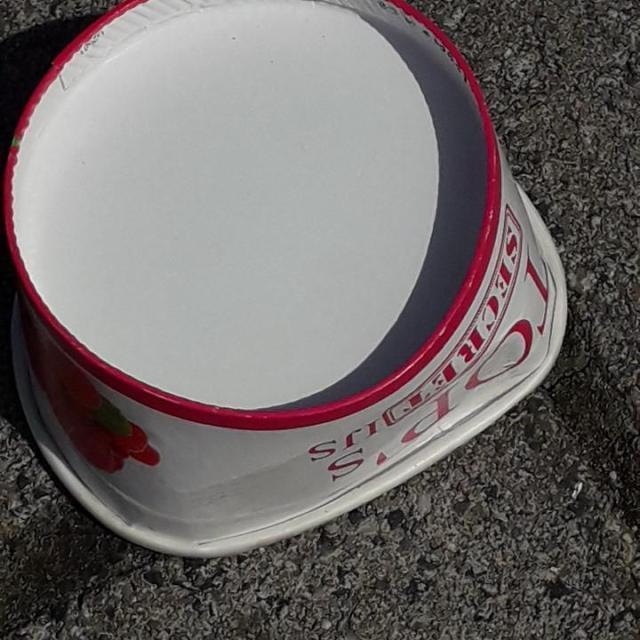Paper: (1, 1, 572, 562)
